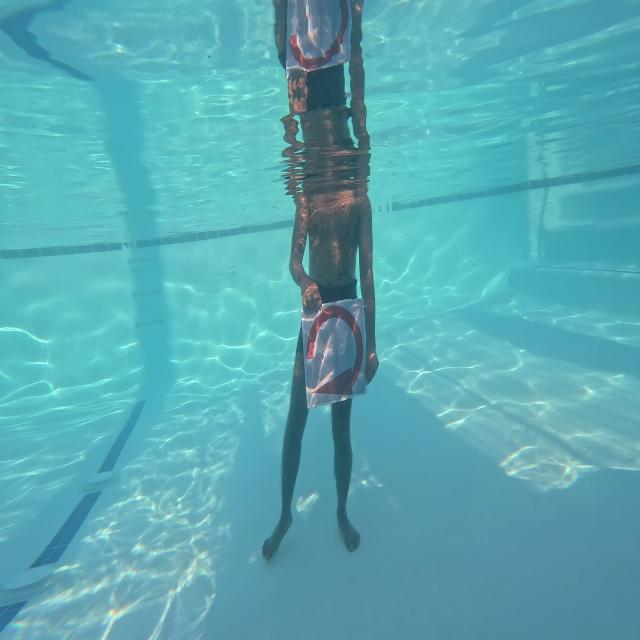red_side: (303, 301, 368, 402)
